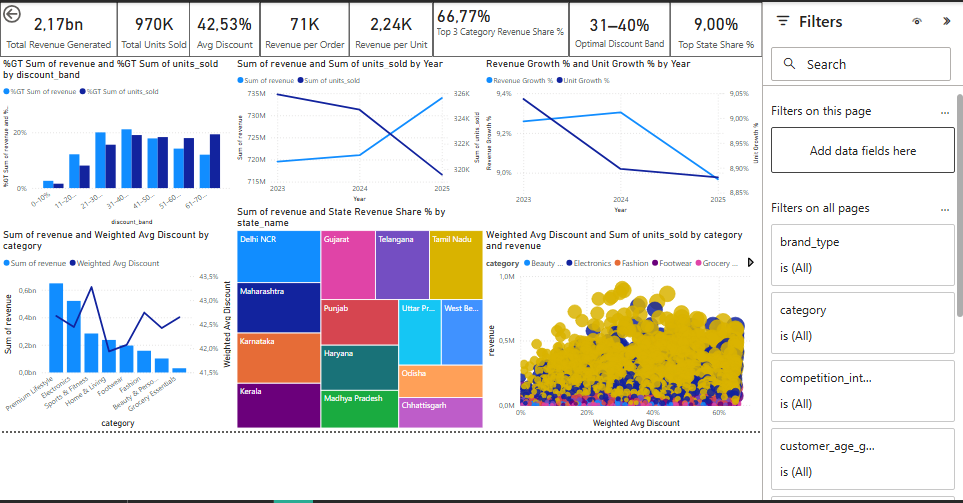

The dashboard page shown, as its layout file describes it:
{"tool":"powerbi","page":{"name":"Executive Overview","canvas":[1280,720],"ordinal":0},"visuals":[{"type":"card","fields":{"Values":["Sum(fact_orders.revenue)"]},"box":[0,0,196.5,92.4],"z":0},{"type":"card","fields":{"Values":["Sum(fact_orders.units_sold)"]},"box":[196.5,0,124.3,92.4],"z":1000},{"type":"card","fields":{"Values":["discount_band_performance.Weighted Avg Discount"]},"box":[317.5,0,119.3,92.4],"z":2000},{"type":"card","fields":{"Values":["pricing_intelligence.Revenue per Unit"]},"box":[586.2,0,141.1,92.4],"z":3000},{"type":"multiRowCard","fields":{"Values":["pricing_intelligence.Top 3 Revenue Share %"]},"box":[727.3,0,228.5,92.4],"z":4000},{"type":"lineChart","fields":{"Y":["Sum(fact_orders.revenue)"],"Category":["dim_date.full_date.Variation.Date Hierarchy.Year","dim_date.full_date.Variation.Date Hierarchy.Quarter","dim_date.full_date.Variation.Date Hierarchy.Month","dim_date.full_date.Variation.Date Hierarchy.Day"],"Y2":["Sum(fact_orders.units_sold)"]},"box":[393.1,92.4,418.3,248.6],"z":5000},{"type":"treemap","fields":{"Group":["dim_state.state_name"],"Values":["Sum(fact_orders.revenue)"]},"box":[393.1,341,423.3,379.6],"z":6000},{"type":"lineChart","fields":{"Y2":["DAXTable.Unit Growth %"],"Category":["dim_date.full_date.Variation.Date Hierarchy.Year","dim_date.full_date.Variation.Date Hierarchy.Quarter","dim_date.full_date.Variation.Date Hierarchy.Month","dim_date.full_date.Variation.Date Hierarchy.Day"],"Y":["DAXTable.Revenue Growth %"]},"box":[811.3,92.4,468.7,267.1],"z":7000},{"type":"scatterChart","fields":{"Size":["Sum(fact_orders.units_sold)"],"Y":["fact_orders.revenue"],"Series":["dim_product.category"],"X":["fact_orders.Weighted Avg Discount"]},"box":[811.1,379.1,468.7,340.9],"z":8000},{"type":"lineClusteredColumnComboChart","fields":{"Y2":["fact_orders.Weighted Avg Discount"],"Category":["dim_product.category"],"Y":["Sum(fact_orders.revenue)"]},"box":[0,379.6,393.1,341],"z":9000},{"type":"actionButton","box":[0,0,100,40],"z":10000},{"type":"card","fields":{"Values":["dim_state.Top State Share %"]},"box":[1125.5,0,154.5,92.4],"z":11000},{"type":"card","fields":{"Values":["fact_orders.Optimal Discount Band"]},"box":[955.8,0,169.7,92.4],"z":12000},{"type":"clusteredColumnChart","fields":{"Category":["fact_orders.discount_band"],"Y":["Sum(fact_orders.revenue)","Sum(fact_orders.units_sold)"]},"box":[0,92.4,393.1,287.2],"z":13000},{"type":"card","fields":{"Values":["DAXTable.Revenue per Order"]},"box":[436.7,0,149.5,92.4],"z":14001}]}

Visuals, with their boxes on the page's 1280x720 design canvas (x1, y1, x2, y2). These are canvas units, not pixel positions in the 963x503 screenshot, which may show the page scaled, cropped or inside an application window:
card - Sum(fact_orders.revenue): (0, 0, 196, 92)
card - Sum(fact_orders.units_sold): (196, 0, 321, 92)
card - discount_band_performance.Weighted Avg Discount: (318, 0, 437, 92)
card - pricing_intelligence.Revenue per Unit: (586, 0, 727, 92)
multiRowCard - pricing_intelligence.Top 3 Revenue Share %: (727, 0, 956, 92)
lineChart - Sum(fact_orders.revenue) x dim_date.full_date.Variation.Date Hierarchy.Year: (393, 92, 811, 341)
treemap - dim_state.state_name x Sum(fact_orders.revenue): (393, 341, 816, 721)
lineChart - DAXTable.Unit Growth % x dim_date.full_date.Variation.Date Hierarchy.Year: (811, 92, 1280, 360)
scatterChart - Sum(fact_orders.units_sold) x fact_orders.revenue: (811, 379, 1280, 720)
lineClusteredColumnComboChart - fact_orders.Weighted Avg Discount x dim_product.category: (0, 380, 393, 721)
actionButton: (0, 0, 100, 40)
card - dim_state.Top State Share %: (1126, 0, 1280, 92)
card - fact_orders.Optimal Discount Band: (956, 0, 1126, 92)
clusteredColumnChart - fact_orders.discount_band x Sum(fact_orders.revenue): (0, 92, 393, 380)
card - DAXTable.Revenue per Order: (437, 0, 586, 92)
